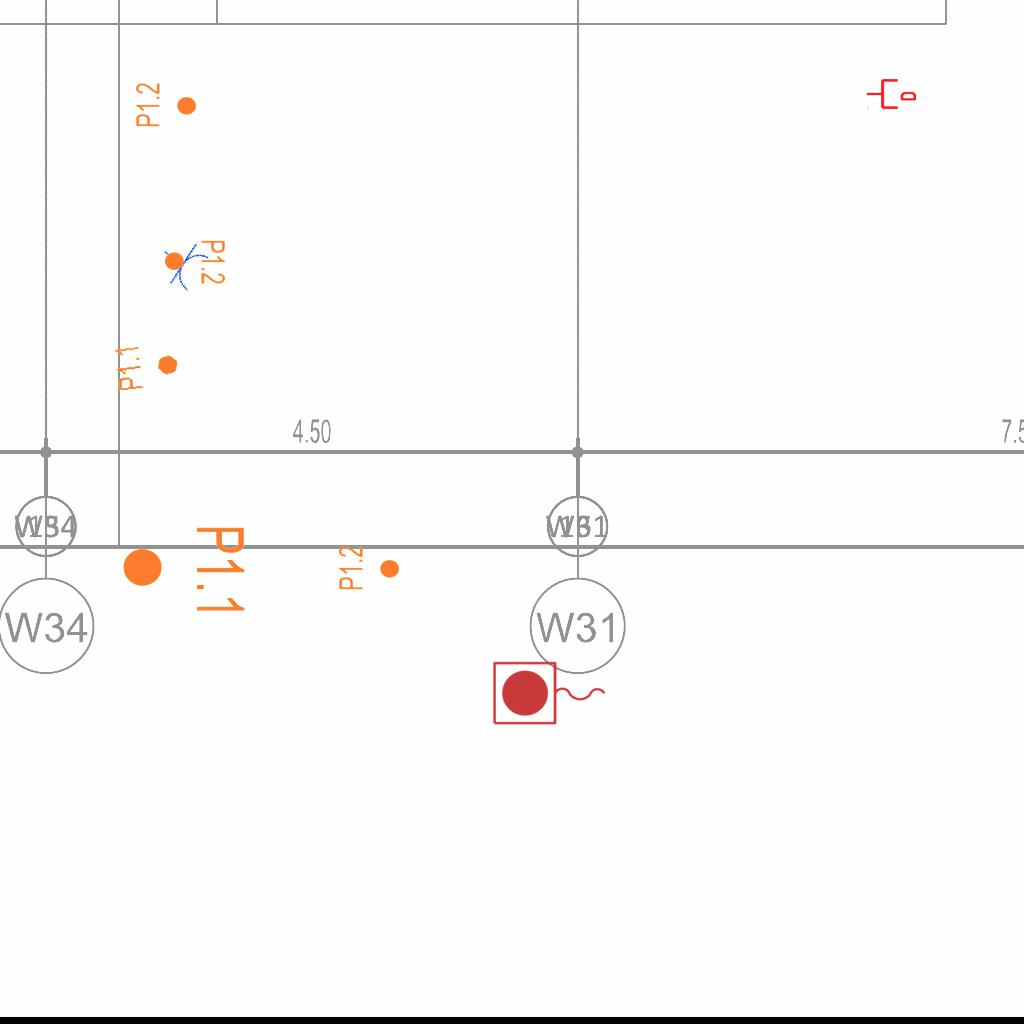Datenanschluss_einfach: (866, 77, 916, 111)
Downlight_LED_Einbauleuchten_Flur: (120, 524, 248, 617), (112, 339, 182, 393), (134, 82, 198, 128), (337, 545, 401, 591), (163, 239, 227, 285)
Schukosteckdose_einfach: (150, 230, 214, 297)
Zugtaster: (489, 658, 611, 730)
